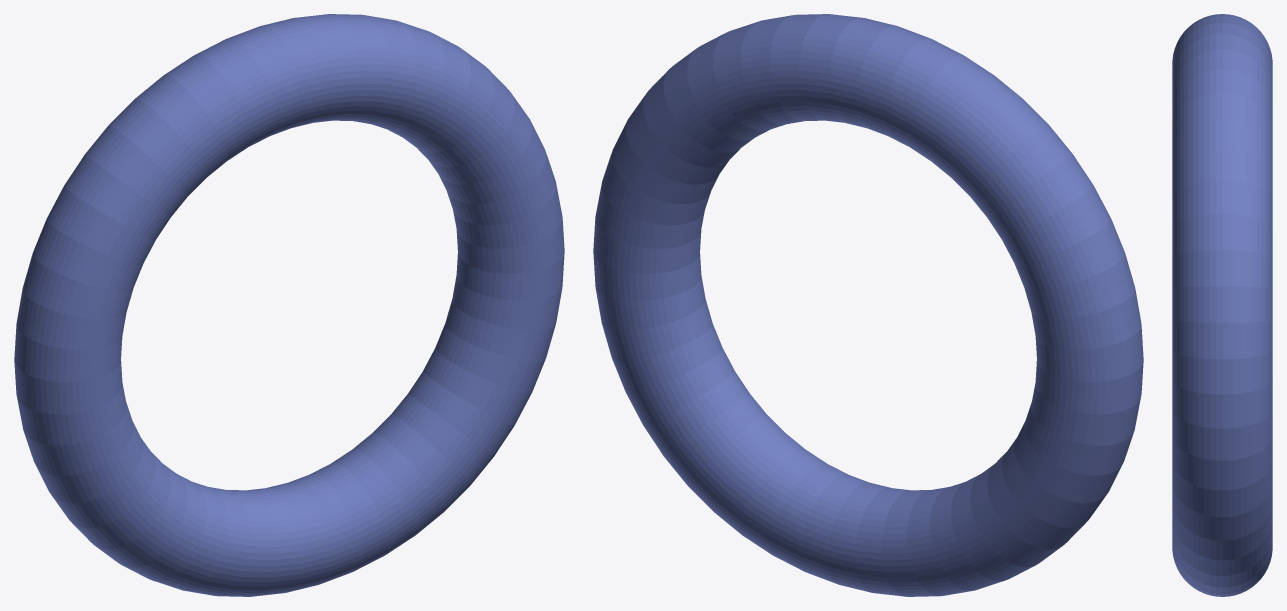
3 views of the same model, side by side, from view 1: azimuth 30°, elevation 25°; view 2: azimuth 150°, elevation 25°; view 3: azimuth 270°, elevation 25° (orthographic). The views are drawn at different scales.
Parts seen in each view (by area): view 1: world; view 2: world; view 3: world.
Part boxes in pixels (x1,y1,x2,y2): world: (14, 14, 564, 596); world: (593, 14, 1143, 596); world: (1172, 14, 1272, 596).
Size of the model in its own units: 19.33 by 19.3 by 3.33.
